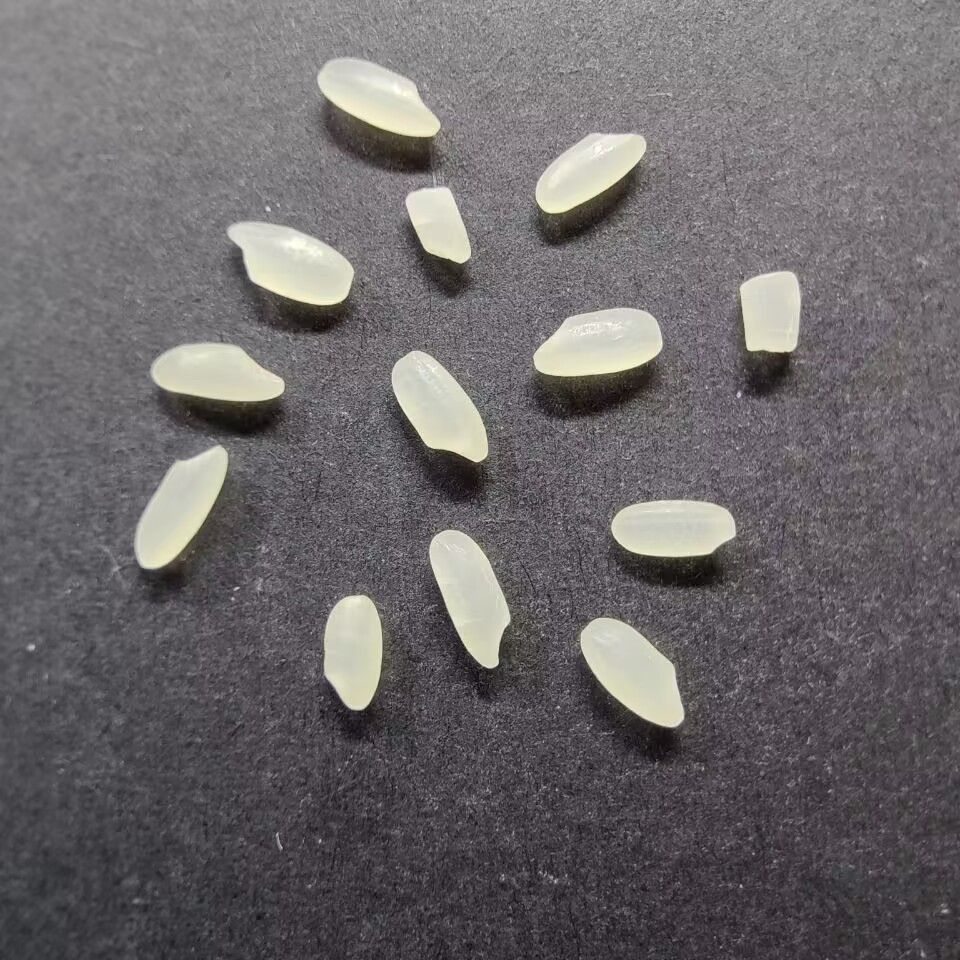broken: (735, 270, 803, 354), (401, 185, 472, 264)
rice: (131, 443, 230, 569), (578, 617, 688, 730), (427, 527, 512, 670), (389, 347, 489, 466), (222, 220, 356, 307), (315, 56, 440, 140), (531, 129, 648, 217), (531, 307, 664, 378), (148, 341, 287, 404), (609, 499, 737, 558), (322, 593, 383, 713)
